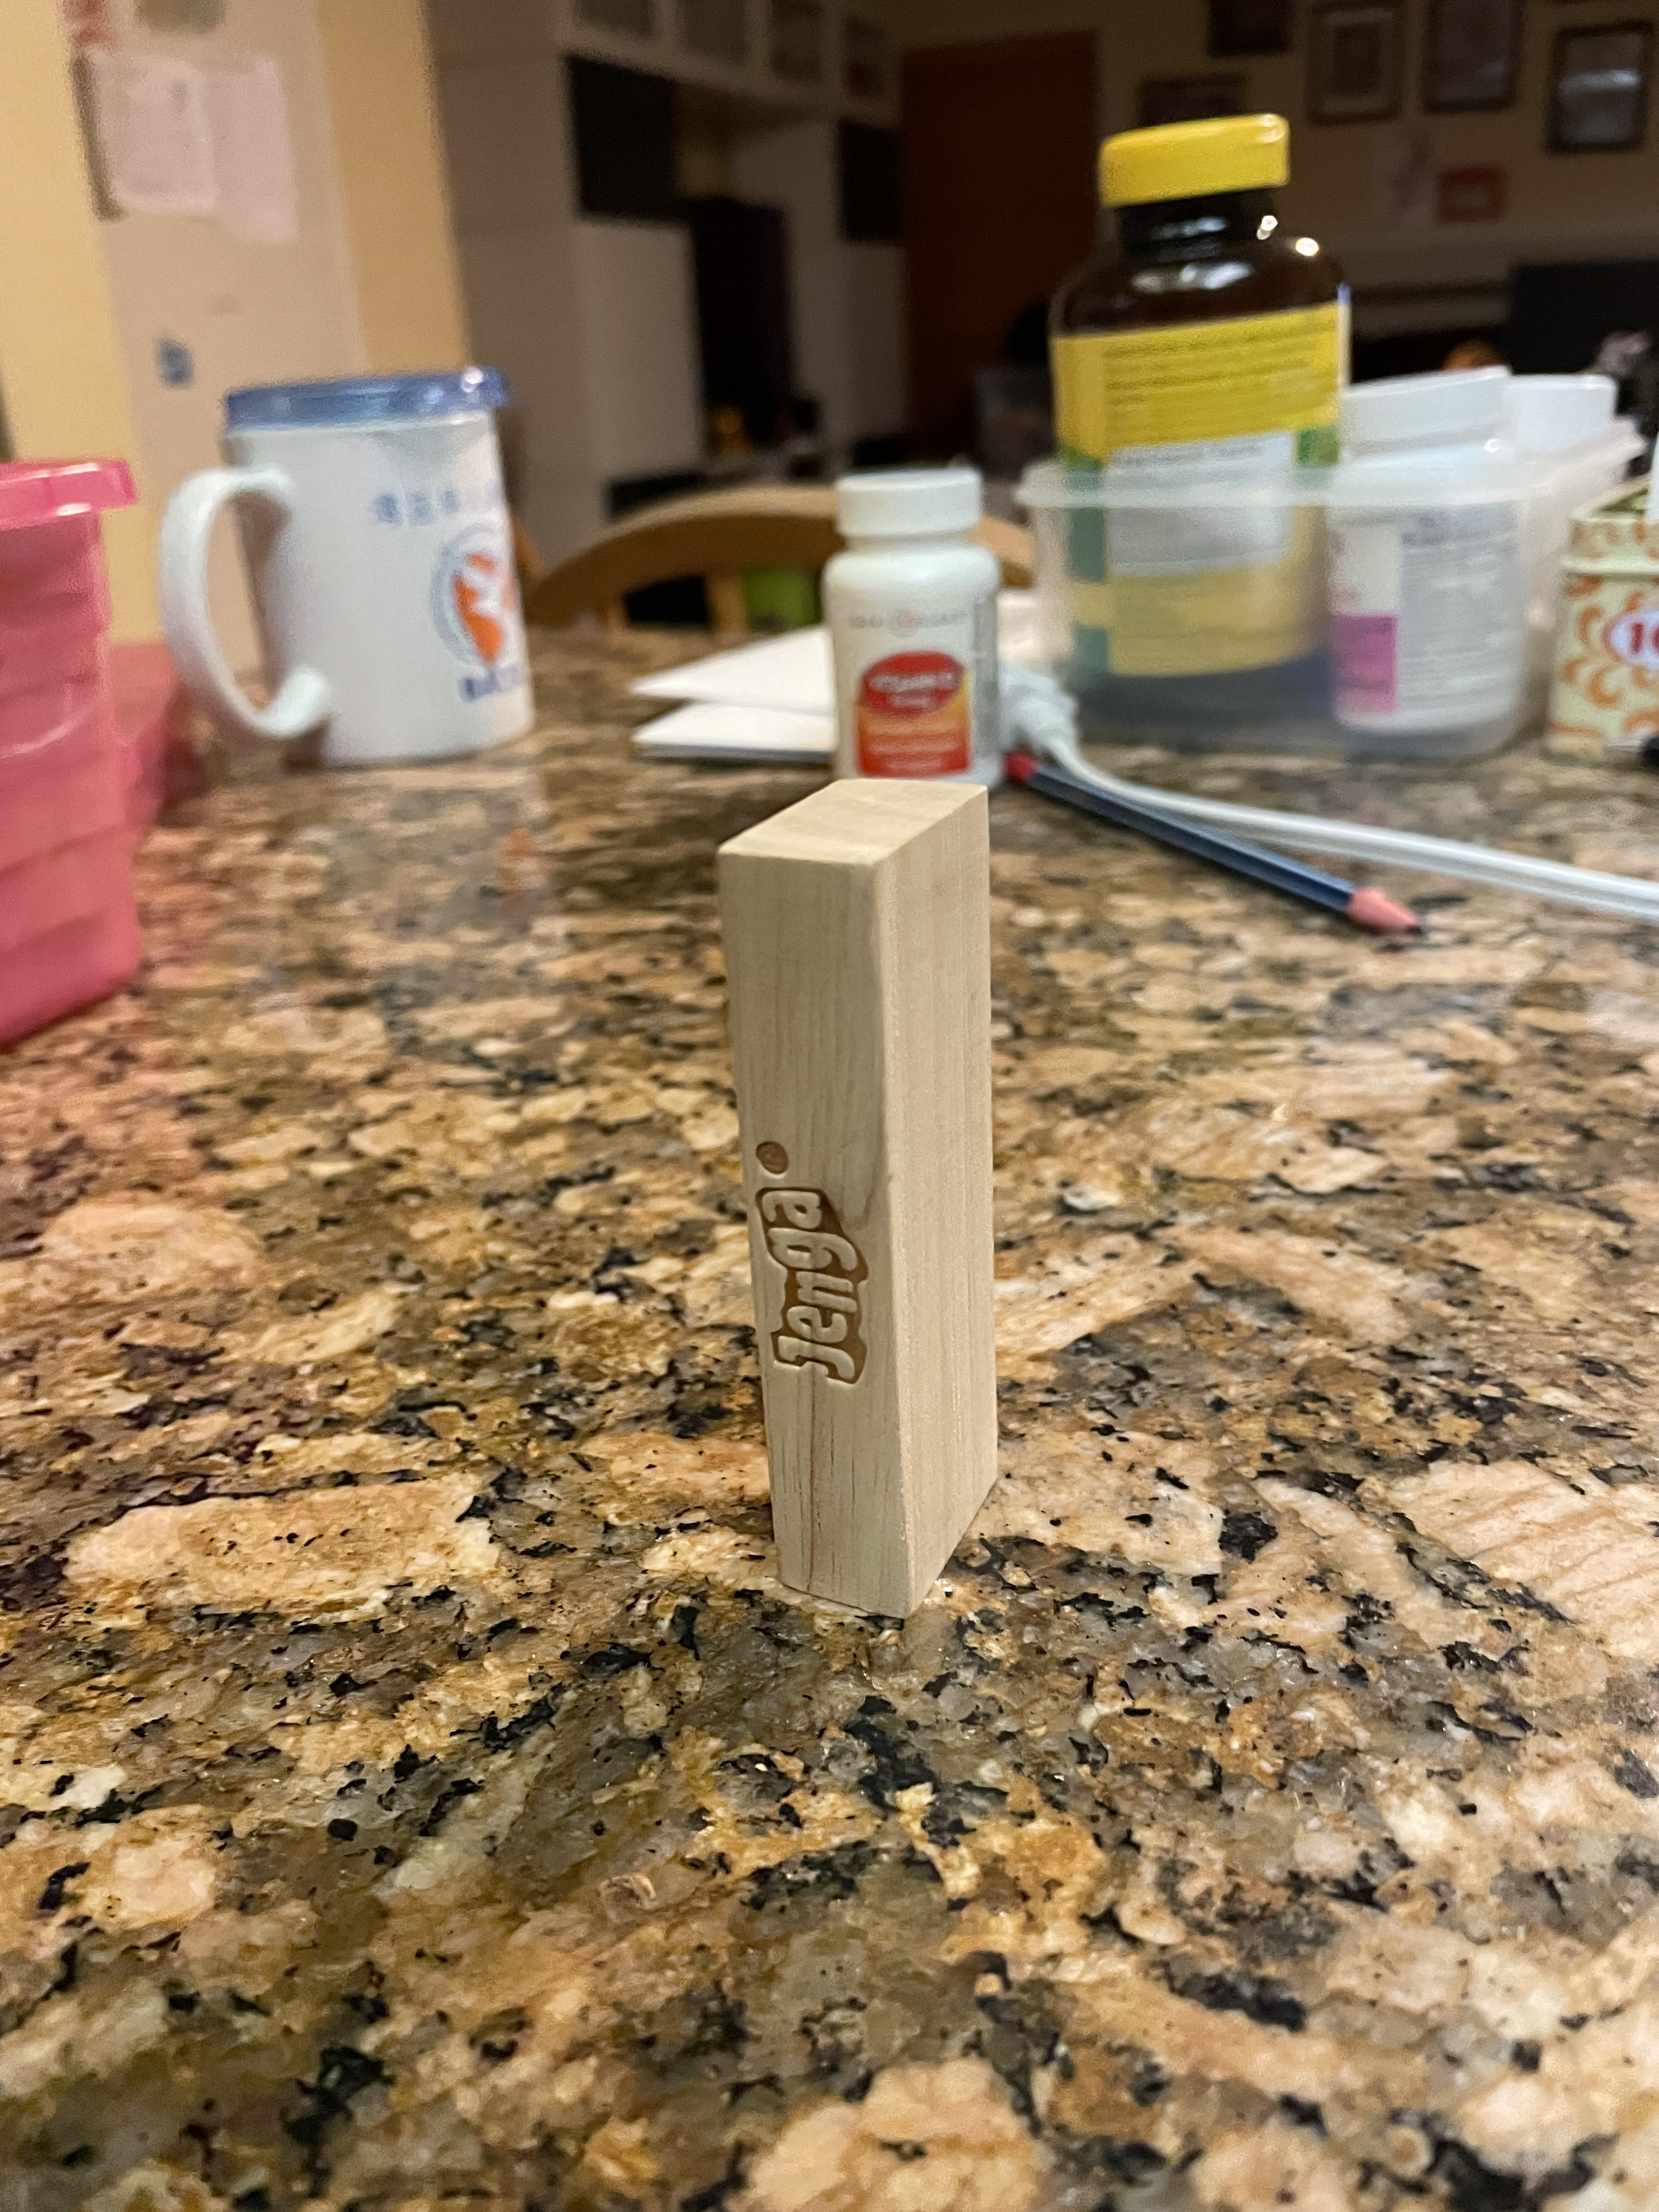jenga: (697, 768, 1016, 1618)
